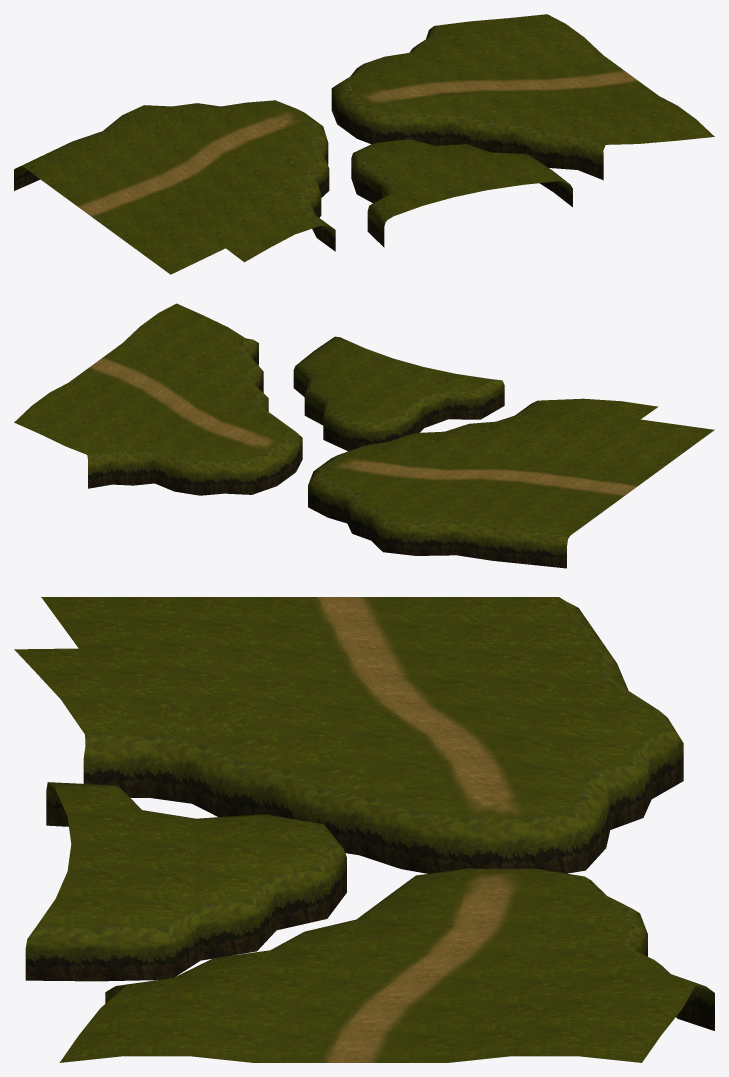
File: mesh_quingming_ground.FBX
3 renders of one model, top to bottom at view 1: azimuth 30°, elevation 25°; view 2: azimuth 150°, elevation 25°; view 3: azimuth 270°, elevation 25°, orthographic. The views are drawn at different scales.
Parts seen in each view (by area): view 1: mesh_quingming_ground; view 2: mesh_quingming_ground; view 3: mesh_quingming_ground.
Boxes of the visible parts, x1,y1,x2,y2 form: mesh_quingming_ground: (14, 14, 714, 274); mesh_quingming_ground: (14, 303, 714, 568); mesh_quingming_ground: (14, 597, 714, 1062).
Size of the model in its own units: 171 by 10.67 by 108.
1 material, 1 textured.
